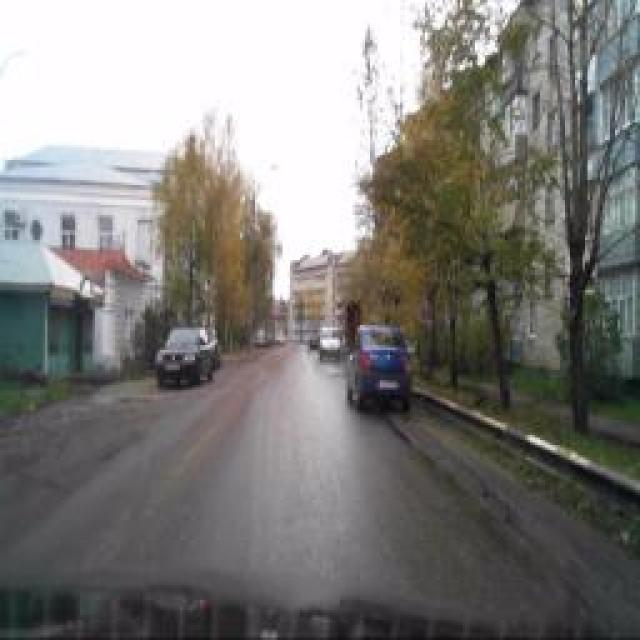sign: (414, 294, 434, 328)
